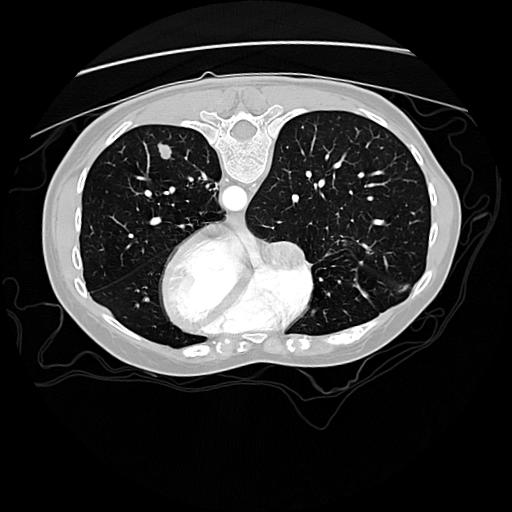nodule: (156, 142, 177, 163)
